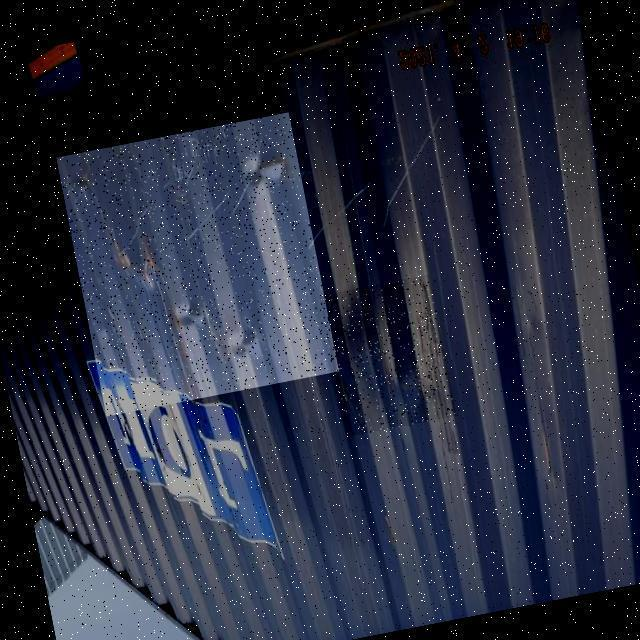dent: (57, 113, 340, 417), (321, 275, 458, 438)
